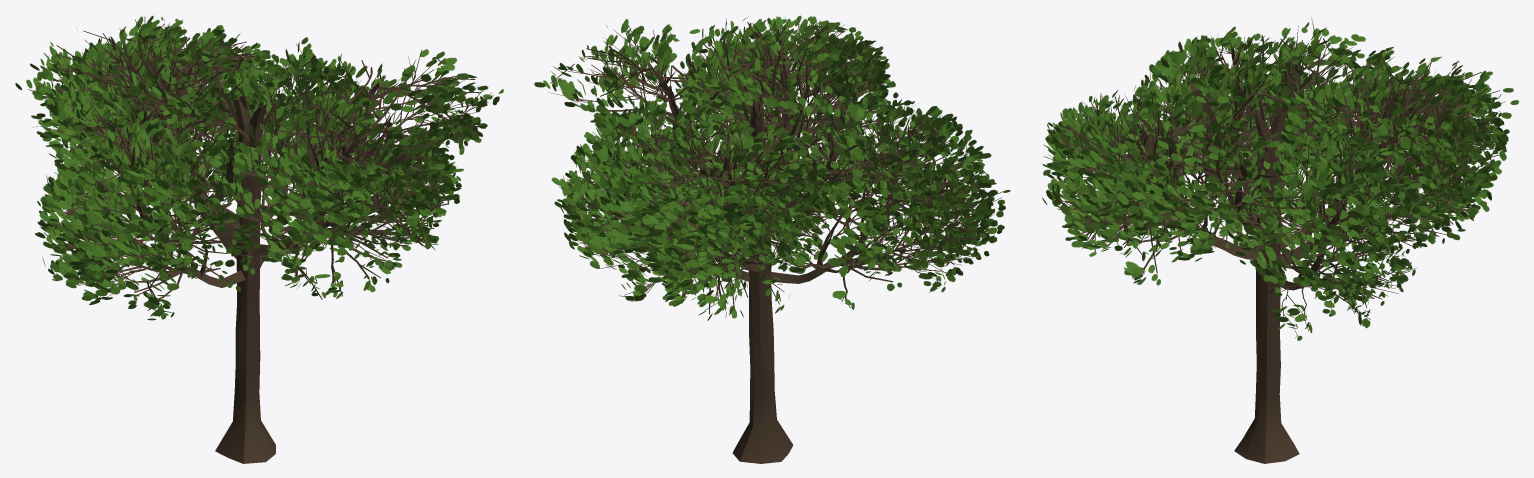
The picture shows the model from 3 angles, left to right: view 1: azimuth 30°, elevation 25°; view 2: azimuth 150°, elevation 25°; view 3: azimuth 270°, elevation 25°; orthographic projection.
Parts seen in each view (by area): view 1: oak 01.001_trunk_Mat.001_0.011; view 2: oak 01.001_trunk_Mat.001_0.011; view 3: oak 01.001_trunk_Mat.001_0.011.
Boxes of the visible parts, x1,y1,x2,y2 form: oak 01.001_trunk_Mat.001_0.011: (15, 16, 503, 463); oak 01.001_trunk_Mat.001_0.011: (534, 15, 1010, 463); oak 01.001_trunk_Mat.001_0.011: (1042, 19, 1518, 463).
Size of the model in its own units: 6.53 by 5.21 by 6.28.
Materials: 2 (1 with a texture image).
